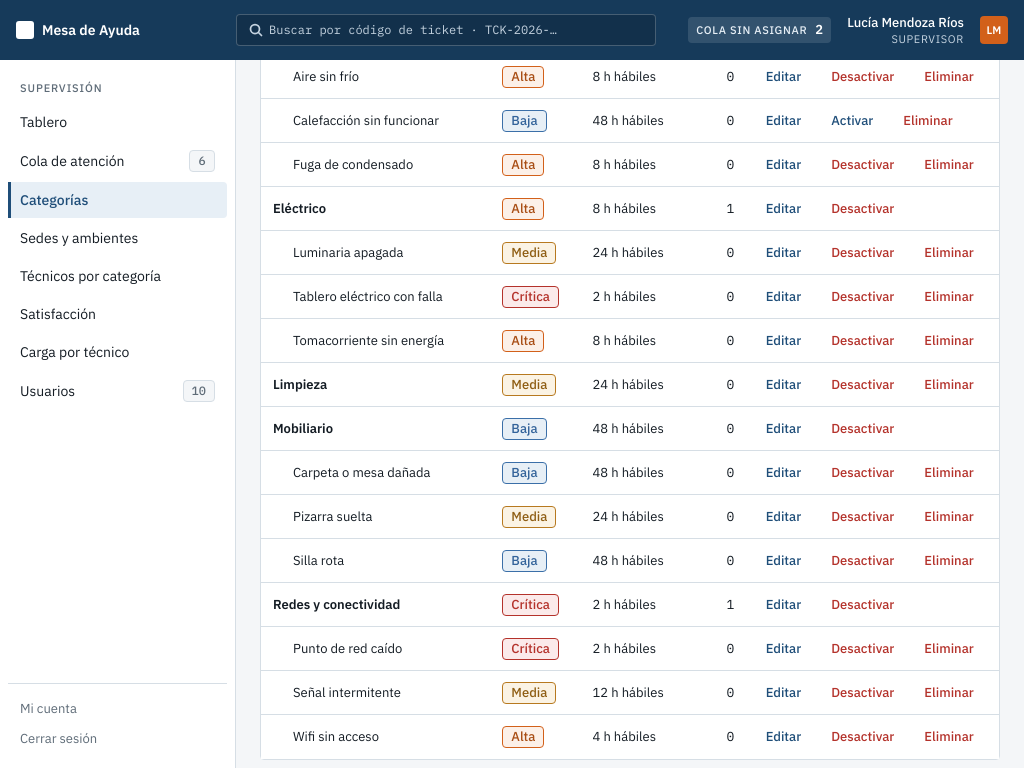
Test: CategoriasPage · eliminar › si la categoría empezó a usarse mientras tanto, explica por qué no se eliminó y actualiza la tabla
(page scrolled)
Expected: the text "Cola sin asignar" is shown, [696, 22, 807, 38]
Click the button named "Eliminar Limpieza".
click(949, 384)  # box [912, 368, 987, 400]
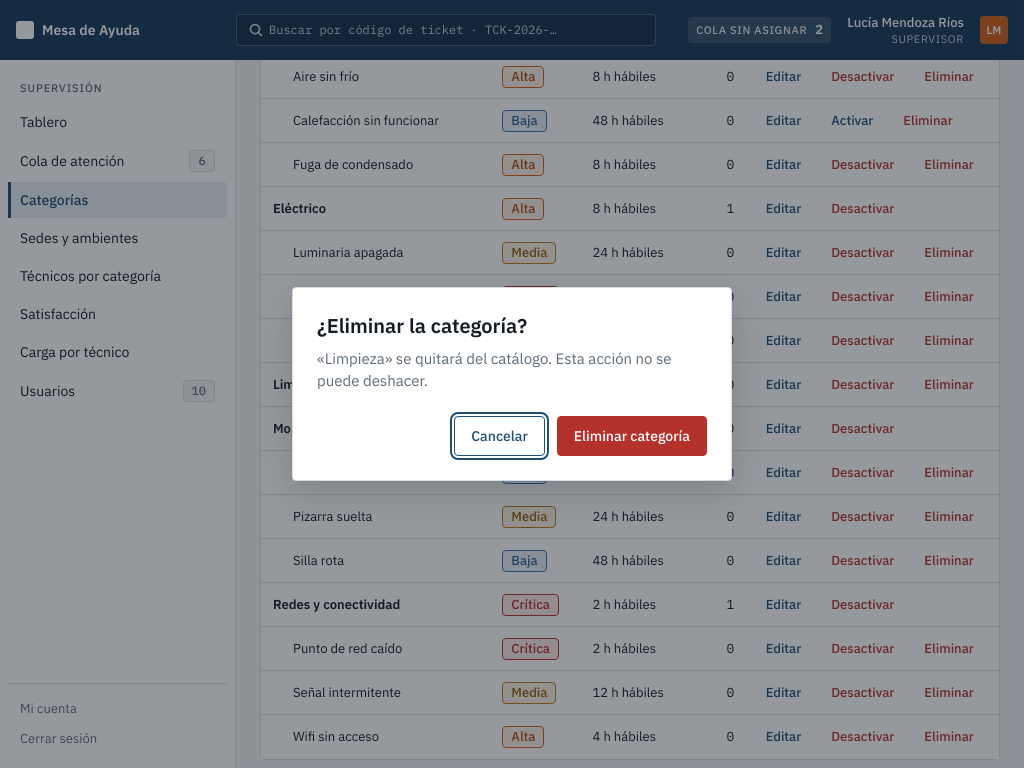
Click the button "Eliminar categoría".
click(632, 436)  # box [557, 416, 707, 456]
(page scrolled)
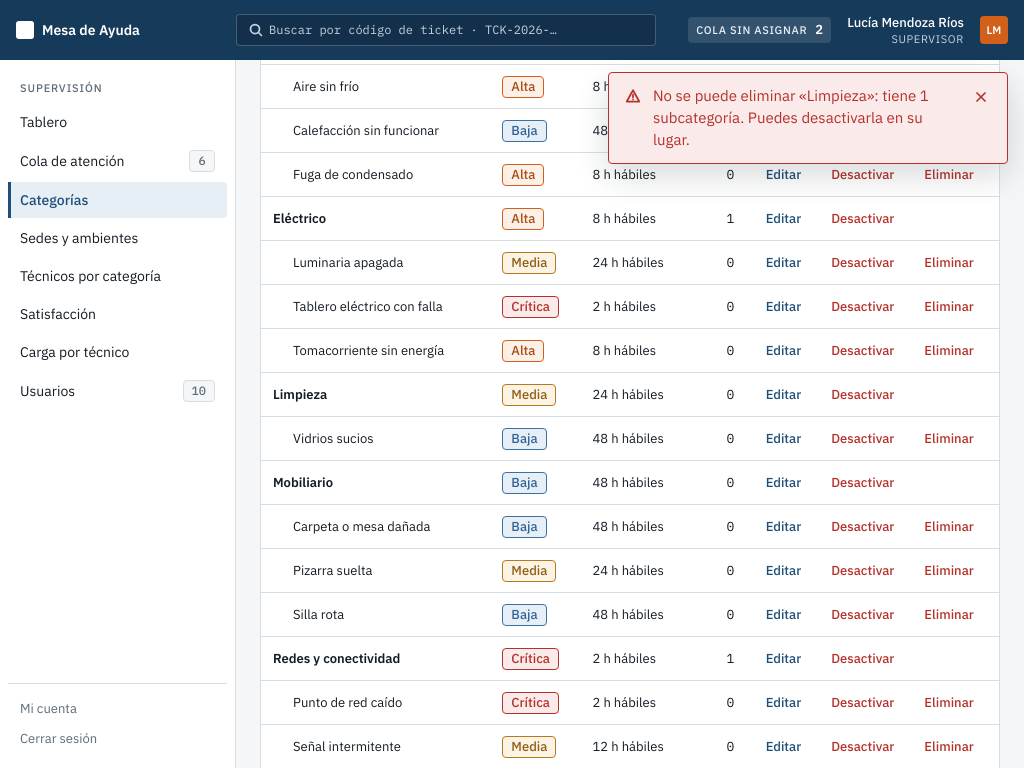
Expected: the button "Eliminar Limpieza" is not shown
Expected: the text "No se puede eliminar «Limpieza»: tiene 1 subcategoría. Puedes desactivarla en su lugar." is shown, [653, 86, 929, 149]
